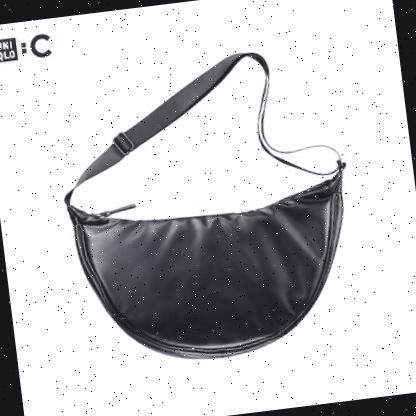bag: (40, 34, 372, 378)
